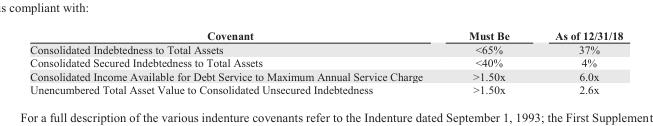table: (29, 28, 622, 95)
table column: (29, 28, 445, 95), (531, 28, 622, 95), (445, 28, 531, 95)
table column header: (29, 28, 622, 42)
table row: (29, 28, 622, 42), (29, 42, 622, 56), (29, 56, 622, 69), (29, 69, 622, 82), (29, 82, 622, 95)
